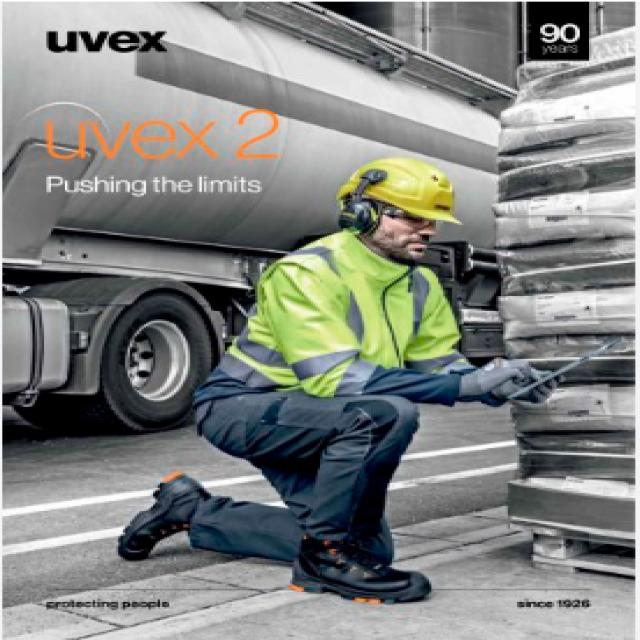boots: (107, 468, 438, 609)
helmet: (332, 154, 471, 268)
vest: (192, 225, 480, 417)
